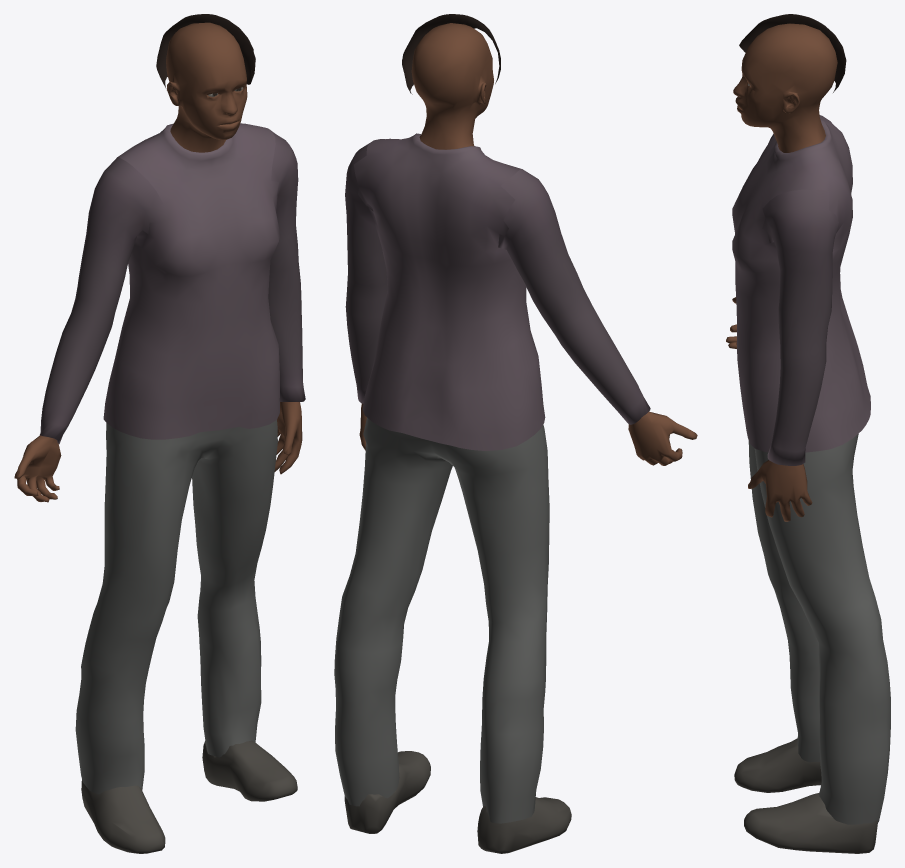
File: participant-16-middle.glb
3 views of the same model, side by side, from view 1: azimuth 30°, elevation 25°; view 2: azimuth 150°, elevation 25°; view 3: azimuth 270°, elevation 25° (orthographic).
Parts seen in each view (by area): view 1: Participant anatomy and ordinary clothes; view 2: Participant anatomy and ordinary clothes; view 3: Participant anatomy and ordinary clothes.
Part boxes in pixels (x1,y1,x2,y2): Participant anatomy and ordinary clothes: (14,14,305,853); Participant anatomy and ordinary clothes: (334,14,697,853); Participant anatomy and ordinary clothes: (726,14,890,853).
Bounding box in the file's own units: 0.6985 × 1.69 × 0.3133.
